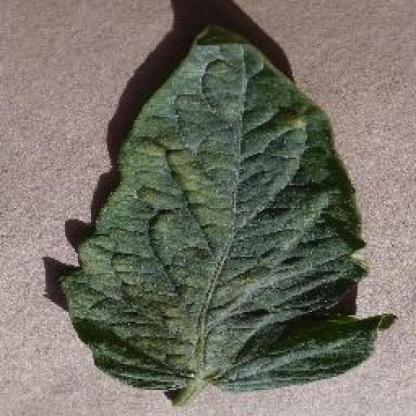Tomato_Spider_Mites: (60, 27, 394, 389)
